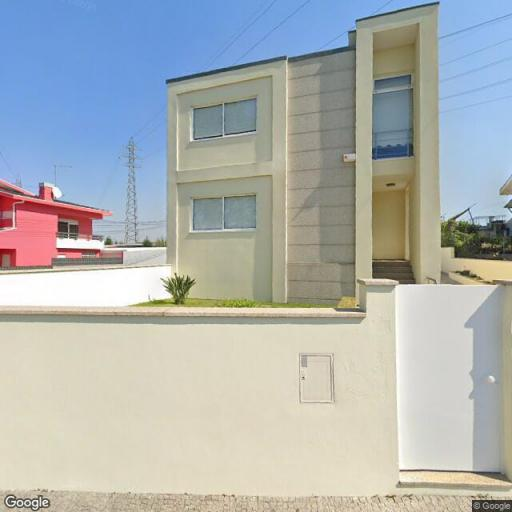ss_3: (116, 134, 145, 244)
